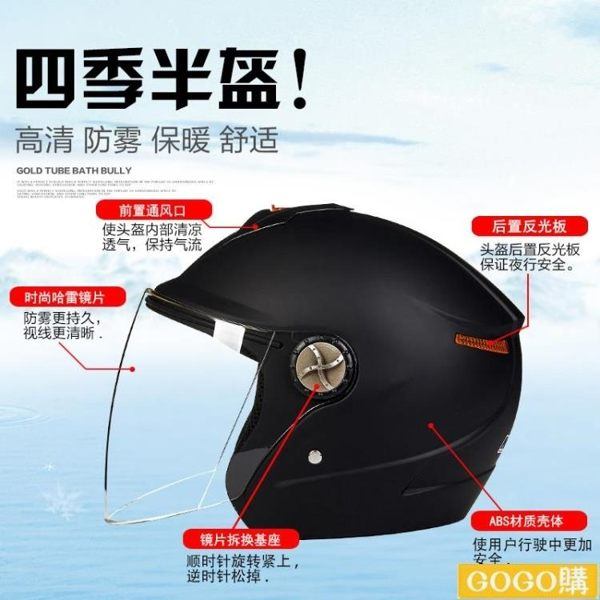helmet: (175, 212, 550, 554)
